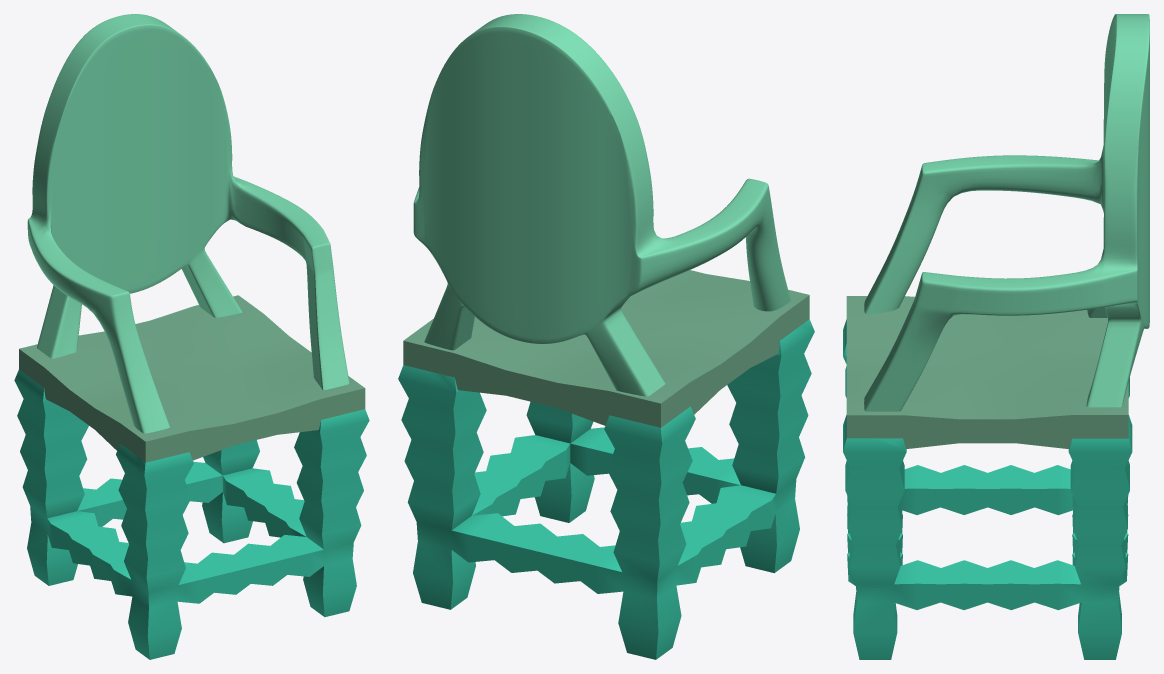
3 views of the same model, side by side, from view 1: azimuth 30°, elevation 25°; view 2: azimuth 150°, elevation 25°; view 3: azimuth 270°, elevation 25° (orthographic). The views are drawn at different scales.
Visible parts, largest first — view 1: split_parent_2, split_parent_1, Object_2; view 2: split_parent_2, split_parent_1, Object_2; view 3: split_parent_2, split_parent_1, Object_2.
Part boxes in pixels (bbox=[...]): split_parent_2: bbox=[27, 14, 349, 433]; split_parent_1: bbox=[14, 370, 369, 659]; Object_2: bbox=[19, 295, 365, 462]; split_parent_2: bbox=[413, 14, 790, 396]; split_parent_1: bbox=[398, 319, 814, 659]; Object_2: bbox=[403, 270, 809, 427]; split_parent_2: bbox=[864, 14, 1149, 411]; split_parent_1: bbox=[843, 319, 1132, 659]; Object_2: bbox=[846, 296, 1128, 448].
Bounding box in the file's own units: 0.4952 × 1 × 0.4769.
